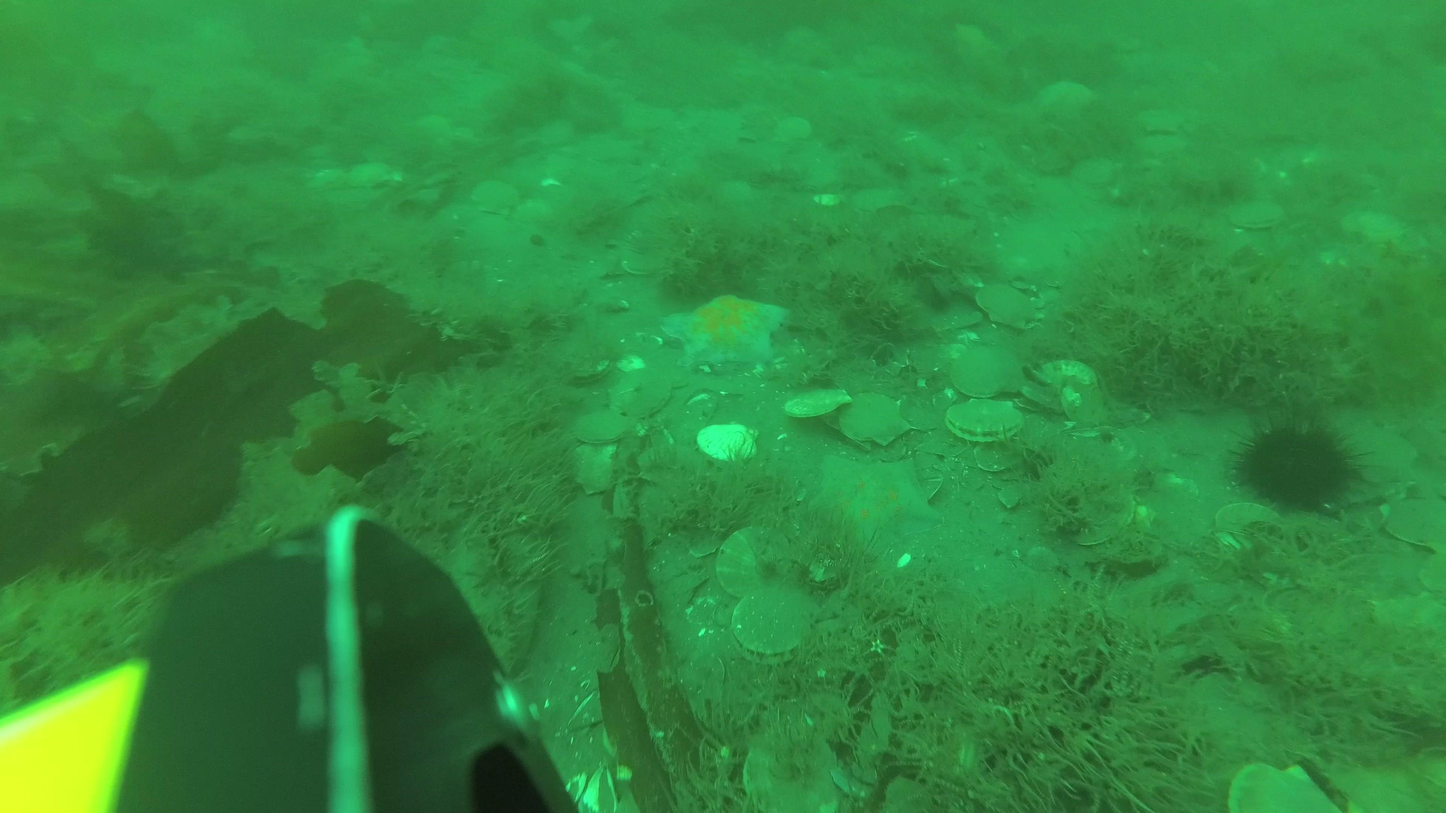holothurian: (804, 451, 949, 556), (658, 286, 790, 367), (1034, 74, 1100, 122)
scallop: (740, 721, 846, 813), (1223, 749, 1356, 813), (728, 578, 826, 664), (718, 522, 798, 602), (1213, 496, 1290, 562), (949, 340, 1030, 399), (837, 388, 913, 449), (1356, 426, 1426, 489), (944, 397, 1026, 449), (558, 438, 625, 500), (1034, 356, 1099, 415), (1385, 495, 1446, 557), (608, 367, 679, 419), (1338, 204, 1410, 253), (975, 281, 1041, 333), (695, 419, 764, 468), (1226, 193, 1289, 236), (781, 388, 856, 422), (574, 410, 639, 447), (467, 177, 523, 218), (1130, 105, 1187, 137), (345, 159, 392, 194), (1072, 154, 1121, 187), (771, 114, 815, 149)
starfish: (1231, 408, 1362, 519)
